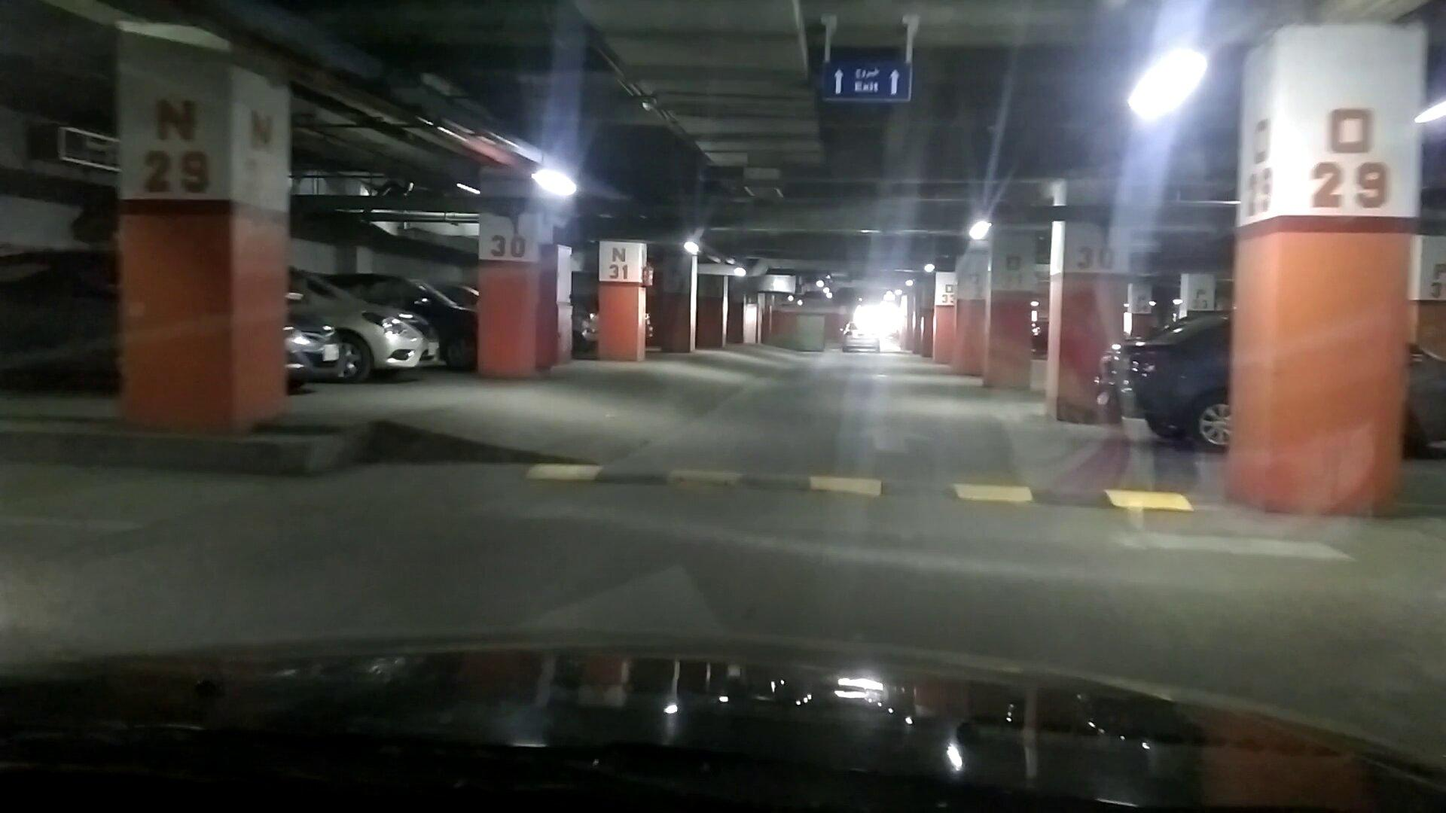Bump: (523, 455, 1222, 518)
